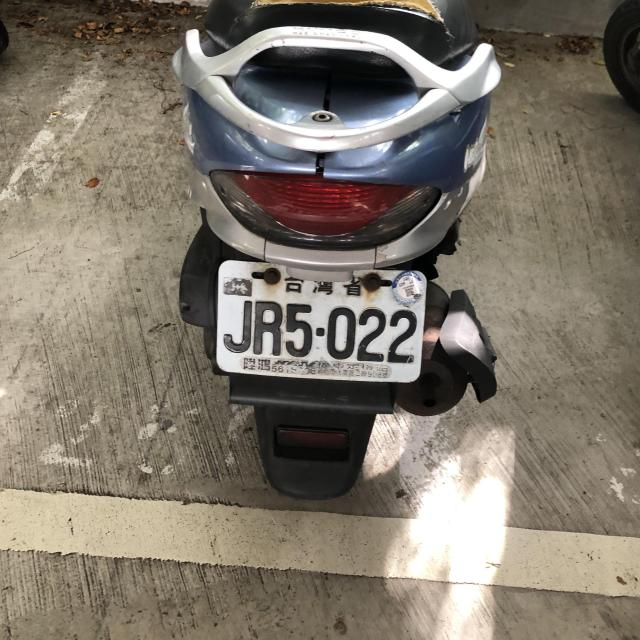W: (211, 255, 427, 388)
